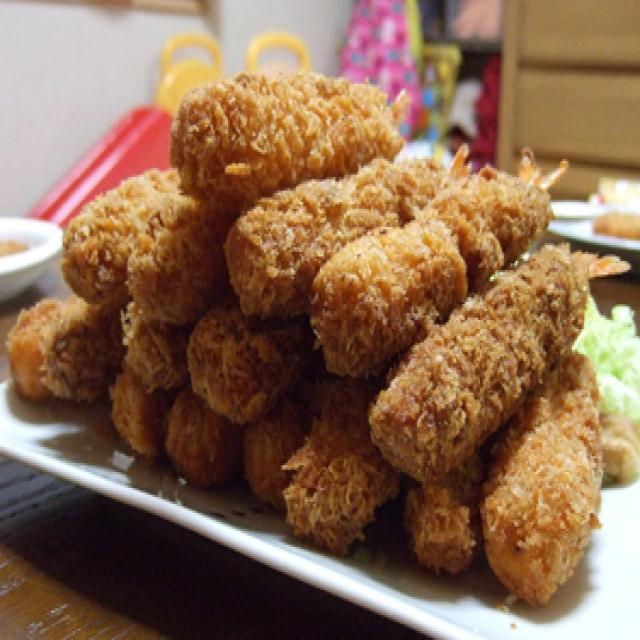炸货点心: (0, 36, 621, 614)
熟制海鲜: (0, 36, 621, 614)
